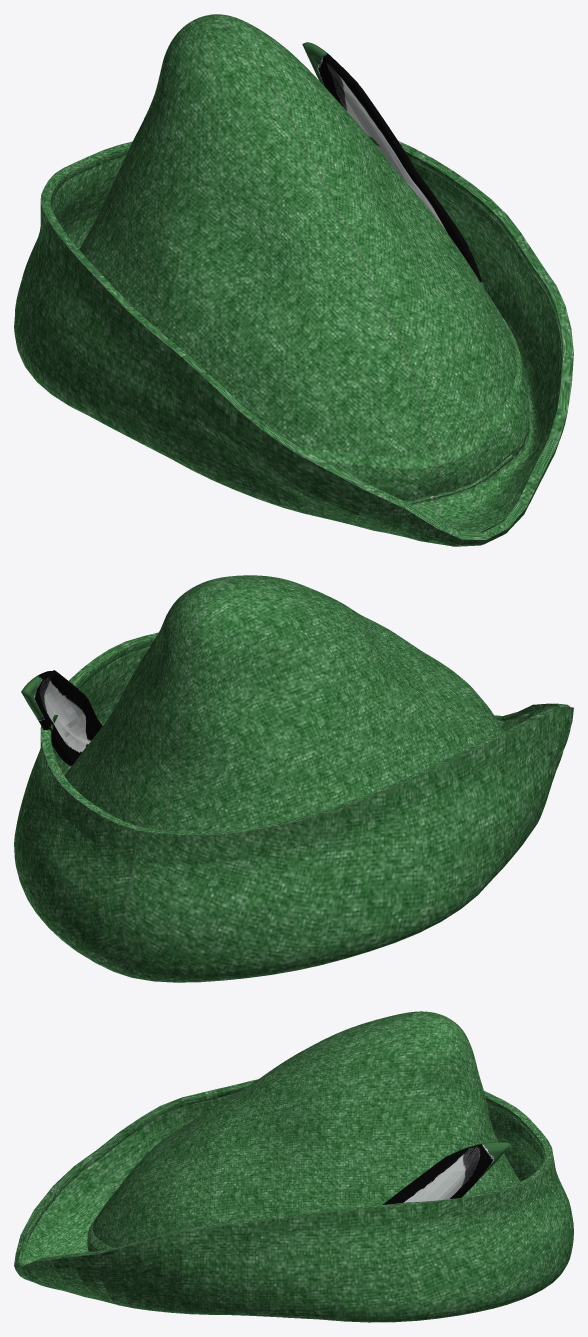
3 renders of one model, top to bottom at view 1: azimuth 30°, elevation 25°; view 2: azimuth 150°, elevation 25°; view 3: azimuth 270°, elevation 25°, orthographic. The views are drawn at different scales.
Parts seen in each view (by area): view 1: robin_hood_hat; view 2: robin_hood_hat; view 3: robin_hood_hat.
Boxes of the visible parts, x1=… form: robin_hood_hat: x1=14, y1=14, x2=573, y2=546; robin_hood_hat: x1=14, y1=575, x2=573, y2=982; robin_hood_hat: x1=14, y1=1011, x2=573, y2=1322.
Size of the model in its own units: 21.21 by 16.57 by 31.63.
